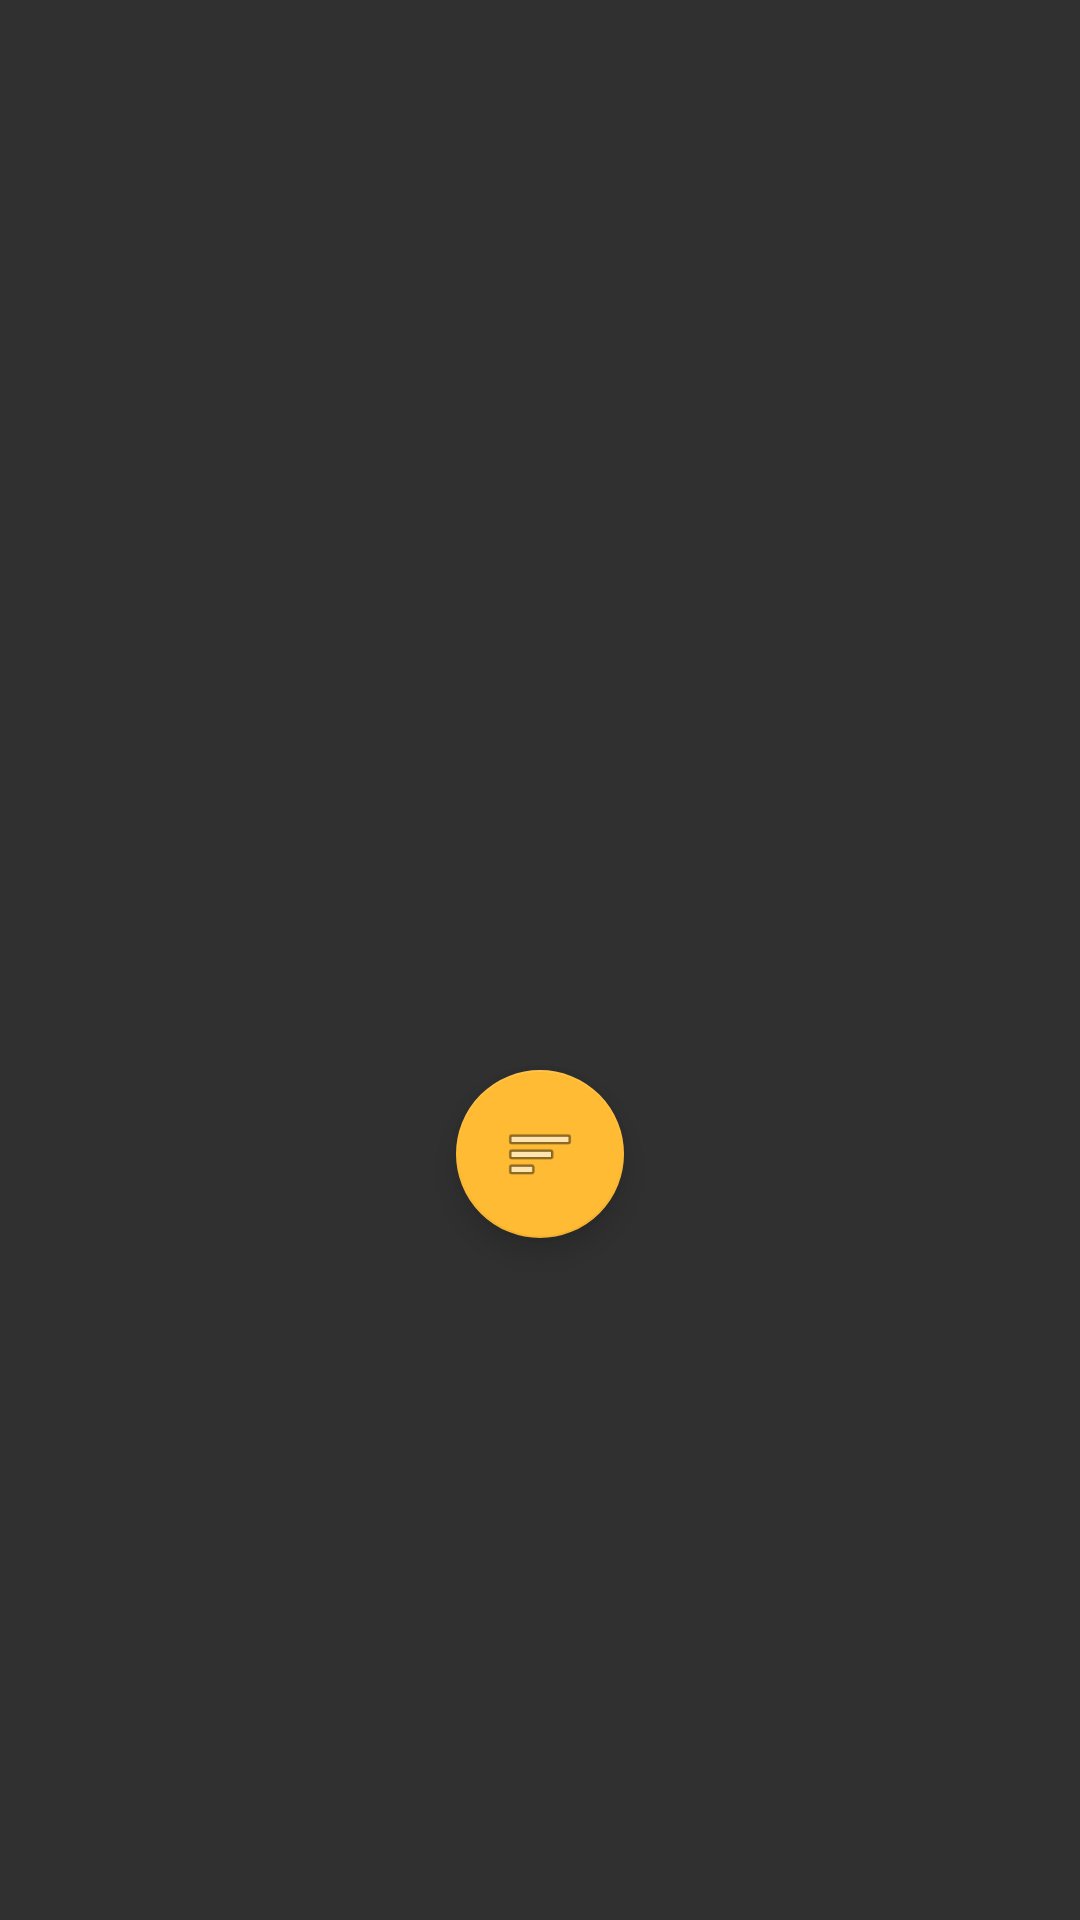

Icons on this 1080*1920 Android screen, each with its box as [x1, y1, x2, y2]:
sort by size: [456, 1070, 624, 1238]
